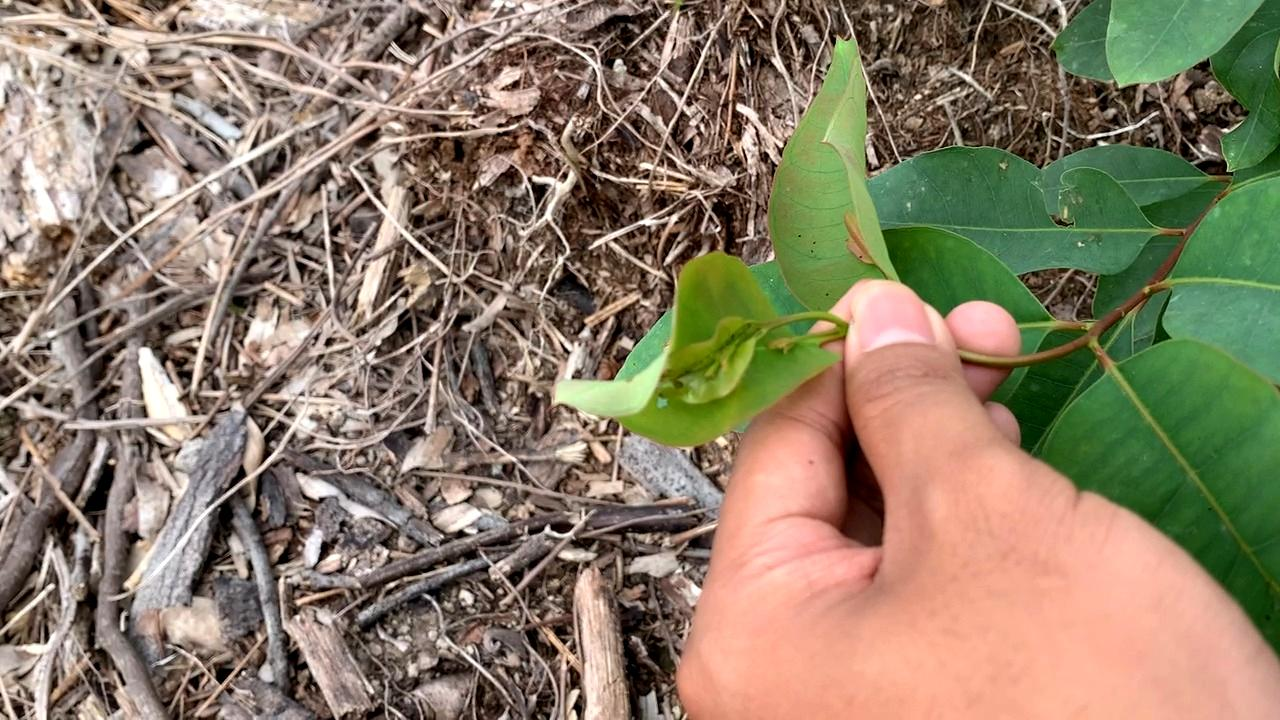Leaf Roller - Leaf: (547, 250, 832, 471)
